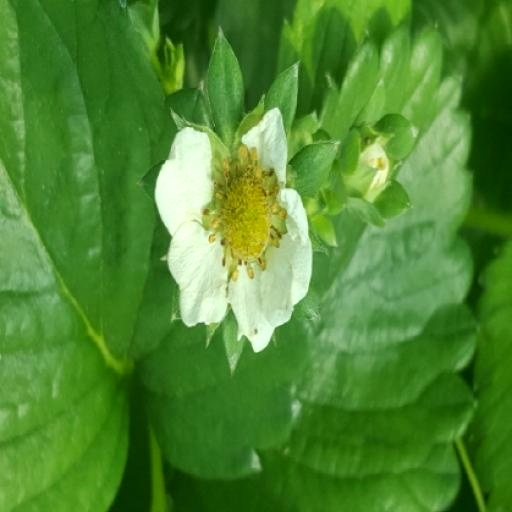Blossom Blight: (222, 229, 314, 370)
